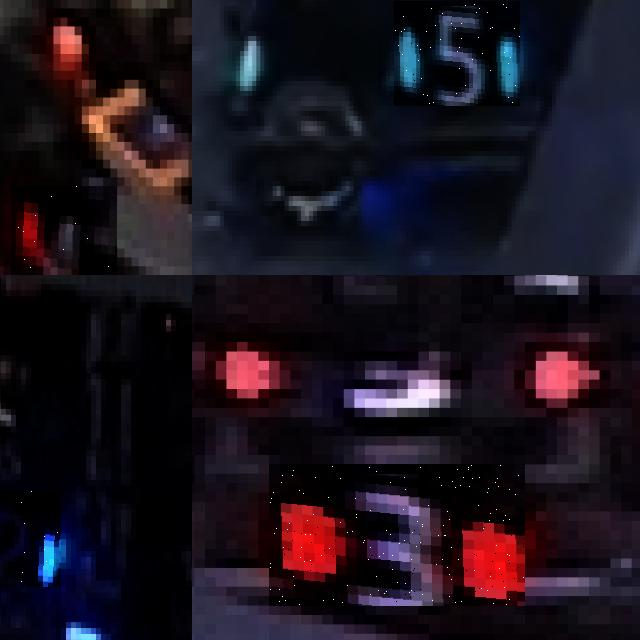B2: (0, 491, 61, 586)
B5: (394, 1, 520, 106)
R3: (269, 464, 525, 606)
R4: (10, 186, 117, 275)
